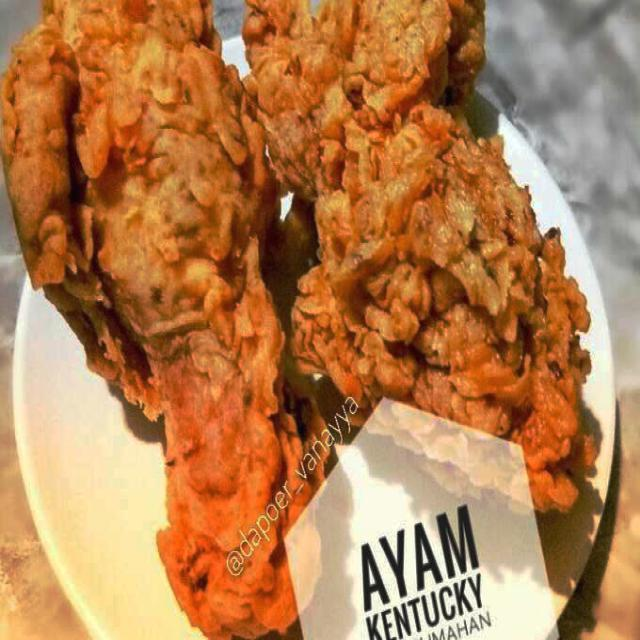fried_chicken: (0, 0, 314, 636), (252, 0, 595, 527)
